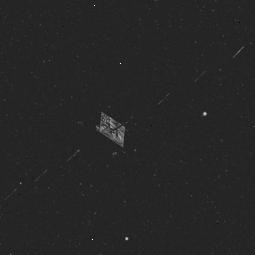smart_1: (47, 71, 200, 166)
